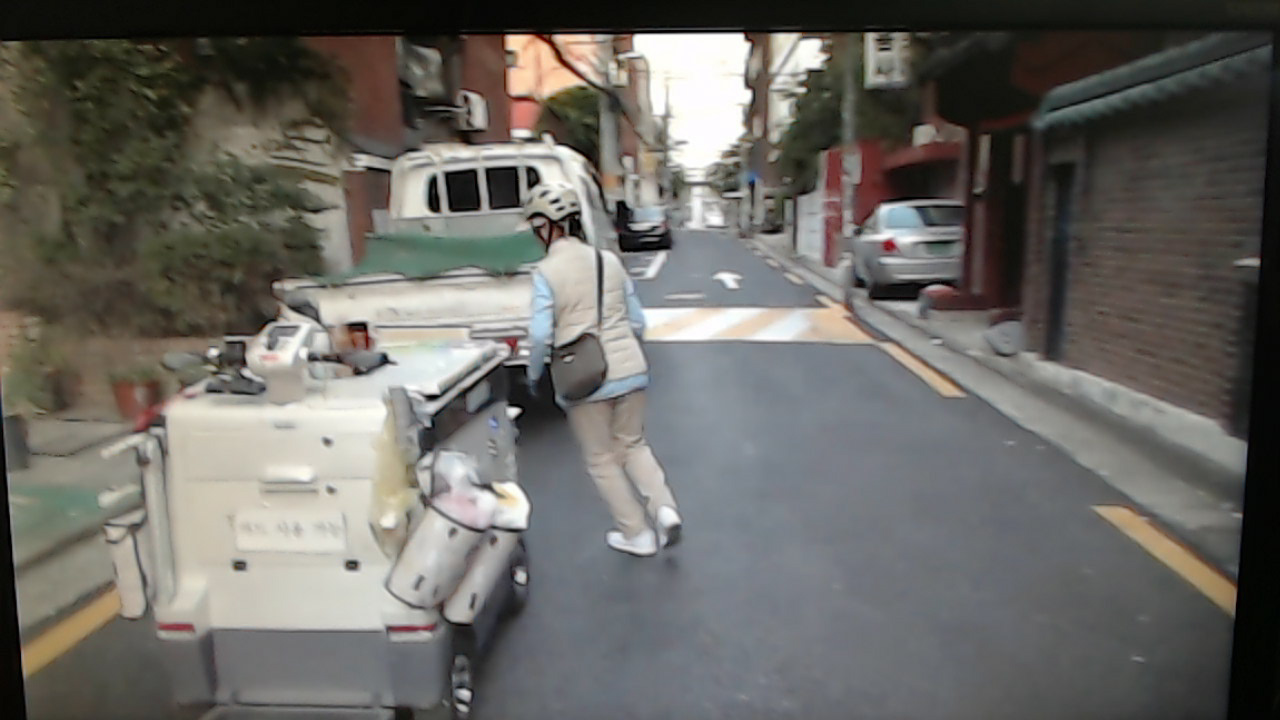Yakurut: (515, 165, 698, 598)
